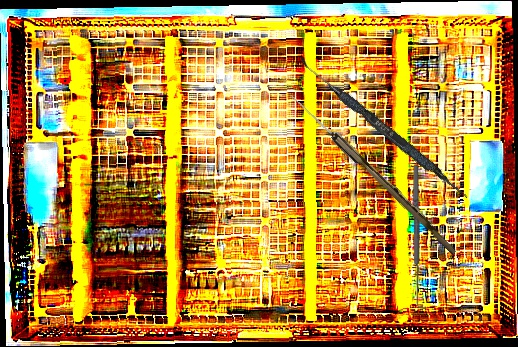Hook Surgical: (410, 163, 428, 311)
Spatula Surgical: (293, 56, 474, 201)
Surgical Spoon: (286, 92, 461, 255)
